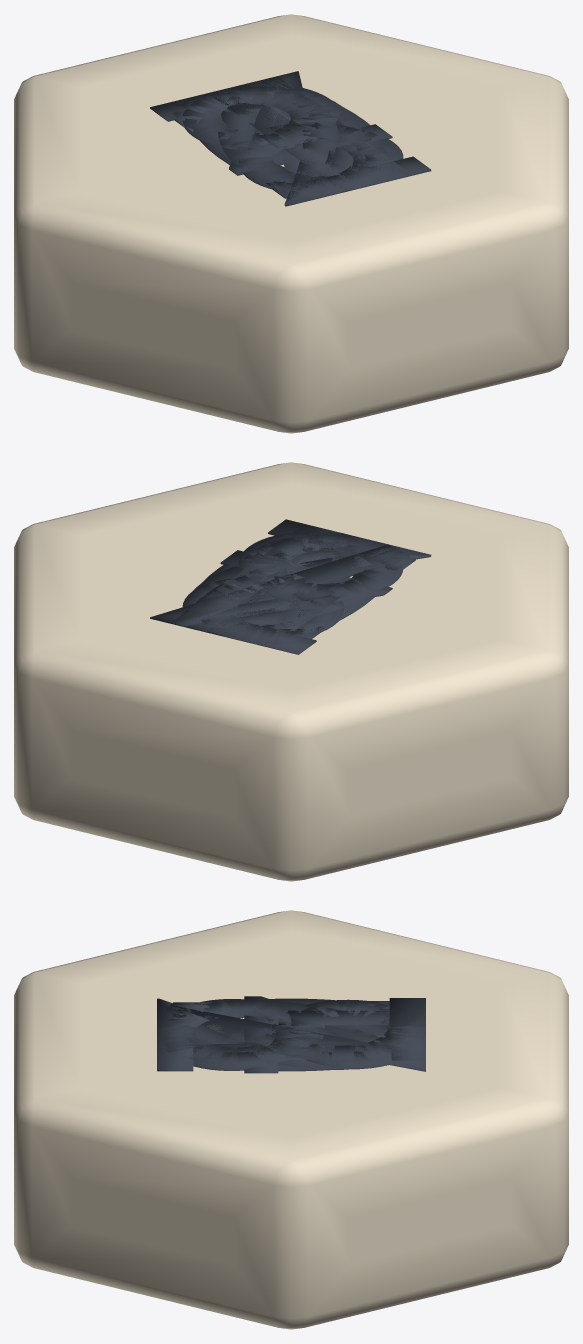
Rendered from clue_stone.glb.
The picture shows the model from 3 angles, top to bottom: view 1: azimuth 30°, elevation 25°; view 2: azimuth 150°, elevation 25°; view 3: azimuth 270°, elevation 25°; orthographic projection.
Parts seen in each view (by area): view 1: Clue_Body, Clue_Num_2, Clue_Num_8, Clue_Num_6, Clue_Num_3, Clue_Num_9, Clue_Num_1, Clue_Num_4, Clue_Num_5, Clue_Num_7; view 2: Clue_Body, Clue_Num_4, Clue_Num_7, Clue_Num_2, Clue_Num_8, Clue_Num_5, Clue_Num_6, Clue_Num_3, Clue_Num_9, Clue_Num_1; view 3: Clue_Body, Clue_Num_7, Clue_Num_2, Clue_Num_5, Clue_Num_6, Clue_Num_8, Clue_Num_9, Clue_Num_4, Clue_Num_3.
Boxes of the visible parts, x1=… form: Clue_Body: x1=14, y1=14, x2=568, y2=433; Clue_Num_2: x1=172, y1=87, x2=431, y2=206; Clue_Num_8: x1=185, y1=84, x2=403, y2=192; Clue_Num_6: x1=218, y1=85, x2=399, y2=189; Clue_Num_3: x1=178, y1=86, x2=388, y2=196; Clue_Num_9: x1=182, y1=85, x2=365, y2=188; Clue_Num_1: x1=208, y1=85, x2=374, y2=192; Clue_Num_4: x1=229, y1=77, x2=410, y2=180; Clue_Num_5: x1=187, y1=76, x2=393, y2=198; Clue_Num_7: x1=150, y1=71, x2=323, y2=191; Clue_Body: x1=14, y1=462, x2=568, y2=881; Clue_Num_4: x1=171, y1=524, x2=392, y2=626; Clue_Num_7: x1=150, y1=544, x2=409, y2=654; Clue_Num_2: x1=198, y1=519, x2=431, y2=643; Clue_Num_8: x1=182, y1=532, x2=402, y2=639; Clue_Num_5: x1=175, y1=534, x2=415, y2=648; Clue_Num_6: x1=202, y1=532, x2=396, y2=630; Clue_Num_3: x1=195, y1=534, x2=410, y2=644; Clue_Num_9: x1=187, y1=543, x2=373, y2=639; Clue_Num_1: x1=207, y1=533, x2=374, y2=640; Clue_Body: x1=14, y1=910, x2=568, y2=1329; Clue_Num_7: x1=168, y1=998, x2=425, y2=1071; Clue_Num_2: x1=157, y1=998, x2=425, y2=1071; Clue_Num_5: x1=163, y1=1002, x2=425, y2=1065; Clue_Num_6: x1=163, y1=1000, x2=391, y2=1068; Clue_Num_8: x1=159, y1=999, x2=423, y2=1070; Clue_Num_9: x1=165, y1=999, x2=404, y2=1069; Clue_Num_4: x1=185, y1=996, x2=388, y2=1073; Clue_Num_3: x1=157, y1=1005, x2=424, y2=1062.
Size of the model in its own units: 0.6096 by 0.1815 by 0.5369.
